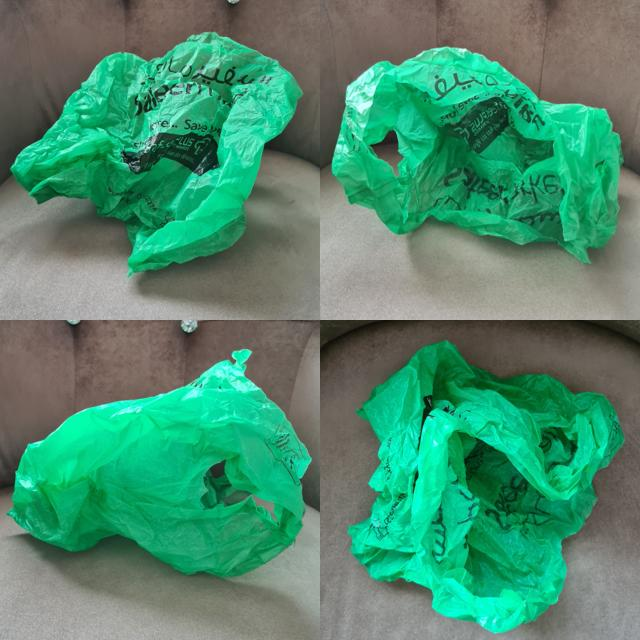Single-layer Plastic: (349, 341, 624, 632), (11, 32, 301, 274), (10, 350, 311, 578), (332, 48, 622, 262)
